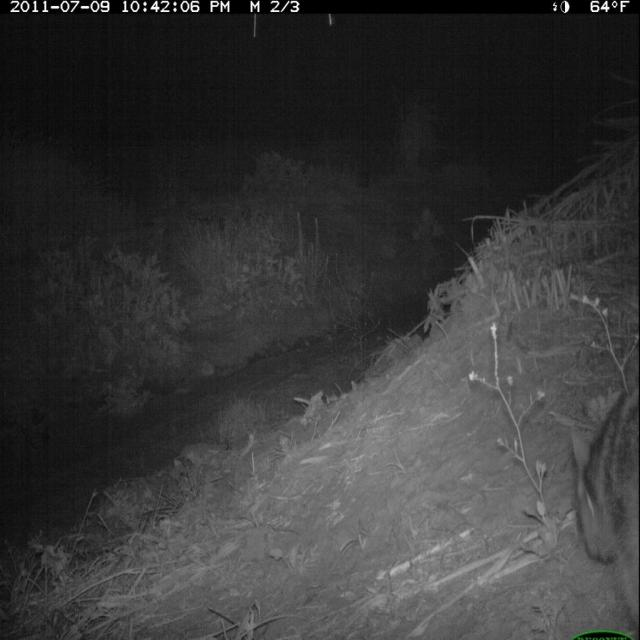raccoon: (562, 355, 640, 640)
